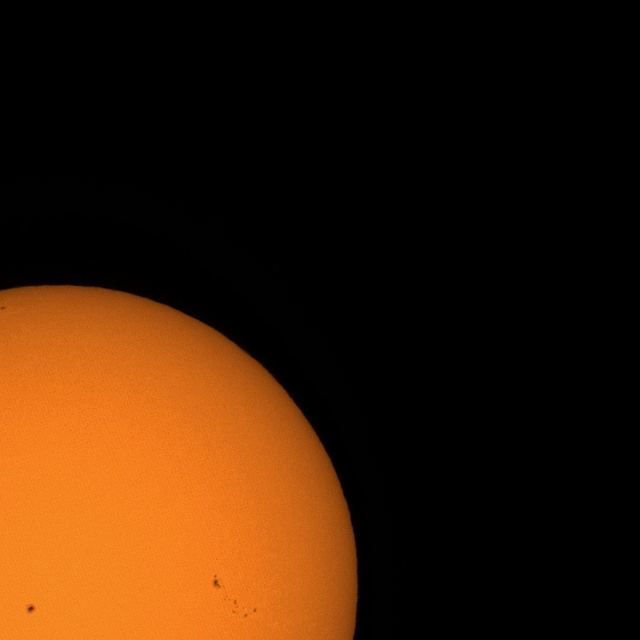sunspot: (212, 578, 256, 624), (222, 592, 258, 618), (212, 573, 234, 603), (212, 574, 225, 593), (25, 603, 36, 614), (0, 304, 7, 311)
